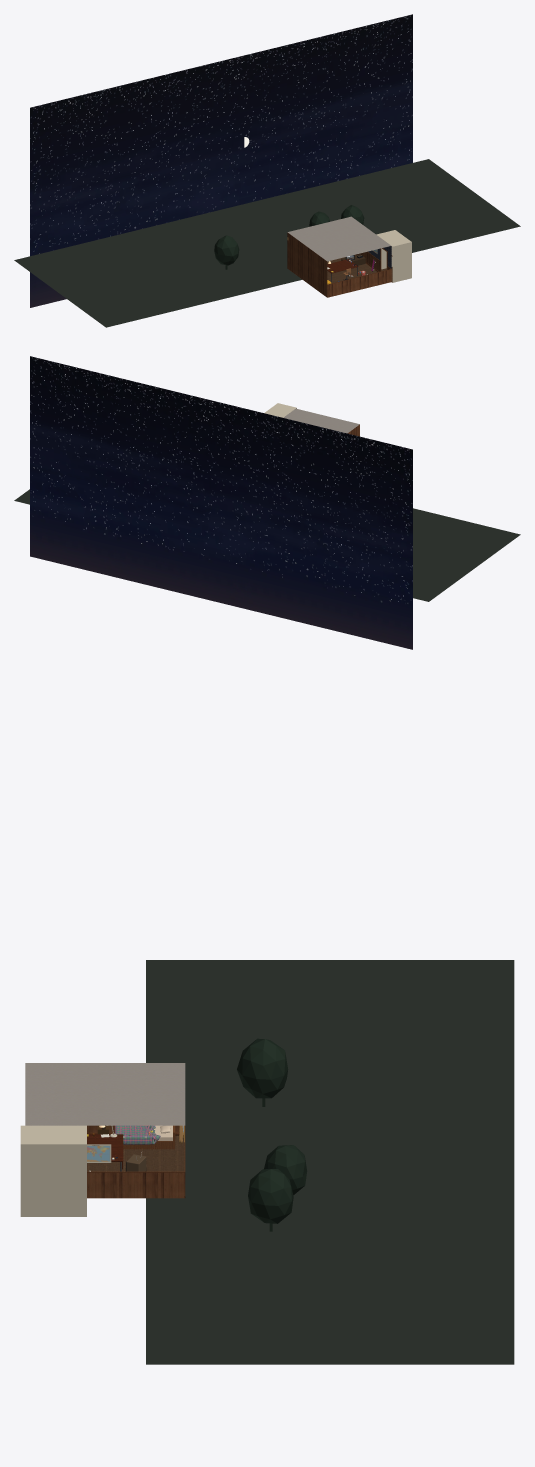
The model's file is bedroom_small.glb.
3 renders of one model, top to bottom at view 1: azimuth 30°, elevation 25°; view 2: azimuth 150°, elevation 25°; view 3: azimuth 270°, elevation 25°, orthographic. The views are drawn at different scales.
Parts seen in each view (by area): view 1: Outside Sky, Outside Ground, Mesh_14, Landing Walls, Mesh_26, Mesh_21, Outside Tree 0, Mesh_25, Mesh_13; view 2: Outside Sky, Outside Ground, Mesh_14; view 3: Outside Ground, Mesh_14, Landing Walls, Mesh_29, Outside Tree 0, Outside Tree 2, Mesh_13, Outside Tree 1.
Part boxes in pixels (left/top/right/bottom): Outside Sky: left=30, top=14, right=412, bottom=307; Outside Ground: left=14, top=159, right=520, bottom=327; Mesh_14: left=287, top=216, right=390, bottom=261; Landing Walls: left=376, top=230, right=411, bottom=282; Mesh_26: left=287, top=232, right=327, bottom=284; Mesh_21: left=327, top=269, right=391, bottom=297; Outside Tree 0: left=214, top=235, right=239, bottom=265; Mesh_25: left=287, top=256, right=327, bottom=297; Mesh_13: left=327, top=257, right=377, bottom=283; Outside Sky: left=30, top=356, right=412, bottom=649; Outside Ground: left=14, top=489, right=520, bottom=601; Mesh_14: left=283, top=408, right=359, bottom=433; Outside Ground: left=146, top=960, right=514, bottom=1364; Mesh_14: left=25, top=1063, right=185, bottom=1125; Landing Walls: left=20, top=1125, right=86, bottom=1216; Mesh_29: left=87, top=1172, right=185, bottom=1198; Outside Tree 0: left=237, top=1038, right=288, bottom=1098; Outside Tree 2: left=248, top=1169, right=293, bottom=1223; Mesh_13: left=87, top=1135, right=184, bottom=1171; Outside Tree 1: left=264, top=1145, right=307, bottom=1195.
Bounding box in the file's own units: 260 × 120 × 134.
173 materials, 42 textured.
